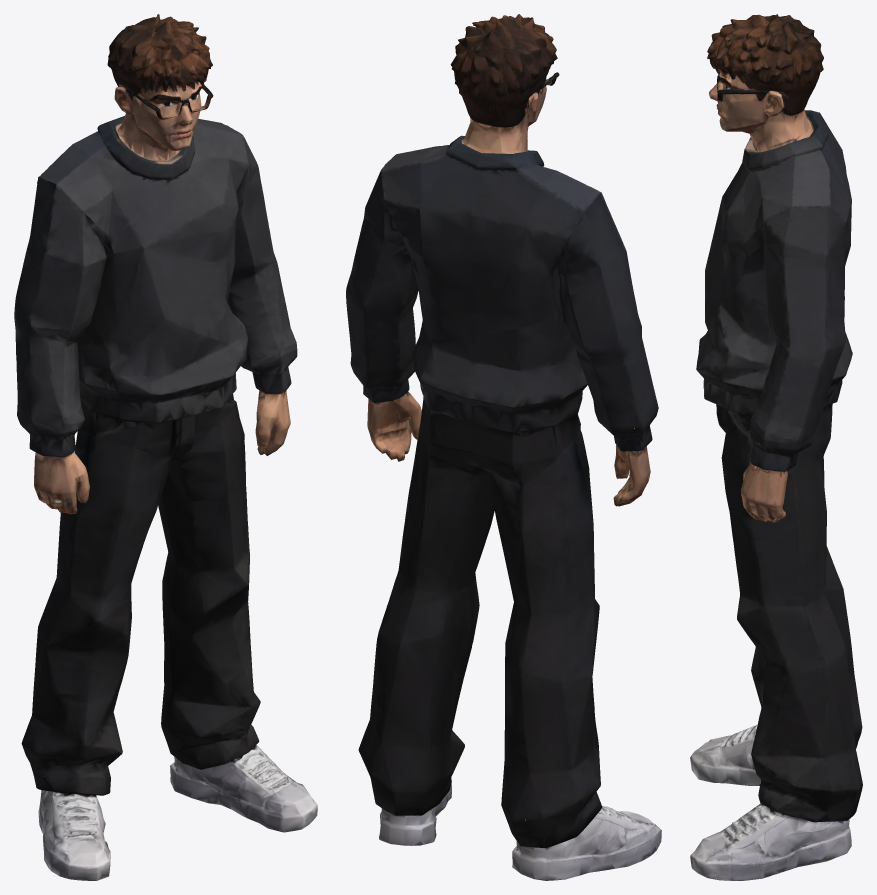
Rendered from me-mobile.glb.
The picture shows the model from 3 angles, left to right: view 1: azimuth 30°, elevation 25°; view 2: azimuth 150°, elevation 25°; view 3: azimuth 270°, elevation 25°; orthographic projection.
Parts seen in each view (by area): view 1: tripo_node_efb8909b-0be8-485c-8f09-a89630d1901e; view 2: tripo_node_efb8909b-0be8-485c-8f09-a89630d1901e; view 3: tripo_node_efb8909b-0be8-485c-8f09-a89630d1901e.
Part boxes in pixels (x1=…): tripo_node_efb8909b-0be8-485c-8f09-a89630d1901e: x1=14, y1=14, x2=317, y2=880; tripo_node_efb8909b-0be8-485c-8f09-a89630d1901e: x1=346, y1=14, x2=661, y2=880; tripo_node_efb8909b-0be8-485c-8f09-a89630d1901e: x1=690, y1=14, x2=862, y2=880.
Bounding box in the file's own units: 0.3489 × 0.9794 × 0.1896.
Materials: 1 (1 with a texture image).
